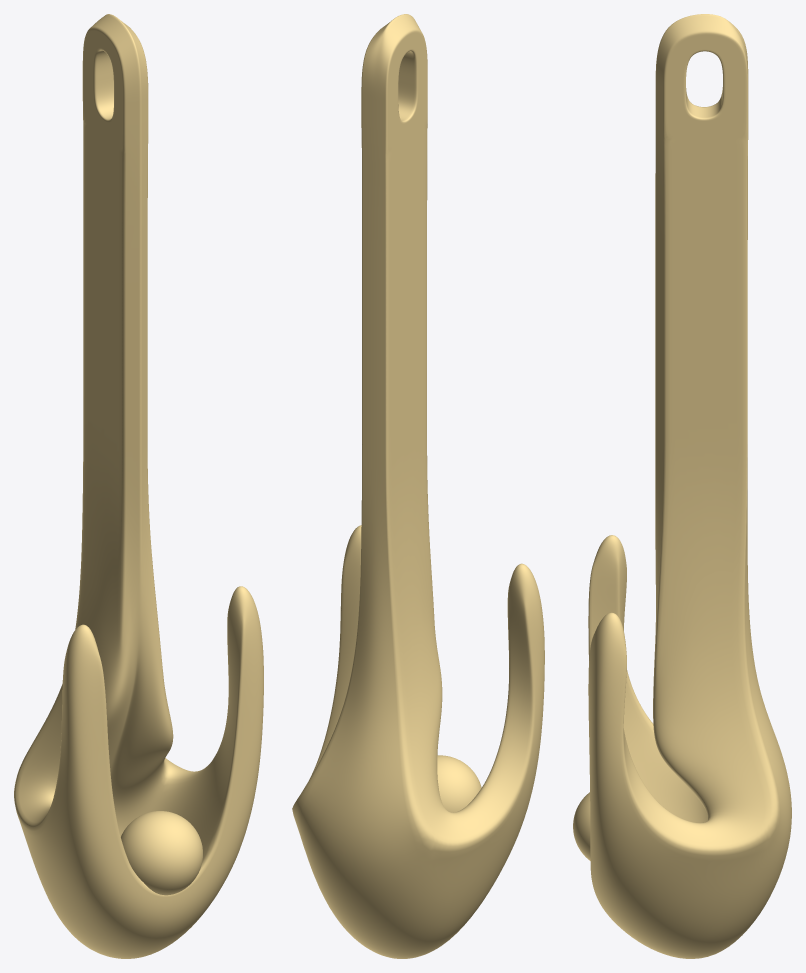
The model's file is icarus.glb.
3 views of the same model, side by side, from view 1: azimuth 30°, elevation 25°; view 2: azimuth 150°, elevation 25°; view 3: azimuth 270°, elevation 25° (orthographic).
Visible parts, largest first — view 1: Box670, Sphere010; view 2: Box670, Sphere010; view 3: Box670, Sphere010.
Part boxes in pixels (x1,y1,x2,y2): Box670: [14, 14, 263, 958]; Sphere010: [121, 811, 202, 895]; Box670: [292, 14, 544, 958]; Sphere010: [437, 755, 481, 812]; Box670: [588, 14, 791, 958]; Sphere010: [573, 792, 590, 860].
Size of the model in its own units: 0.00933 by 0.0424 by 0.00896.
